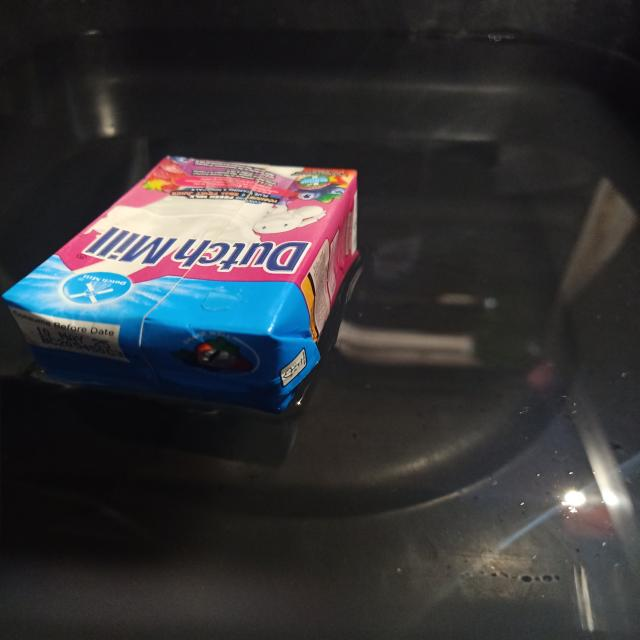Cardboard Box: (3, 156, 359, 416)
